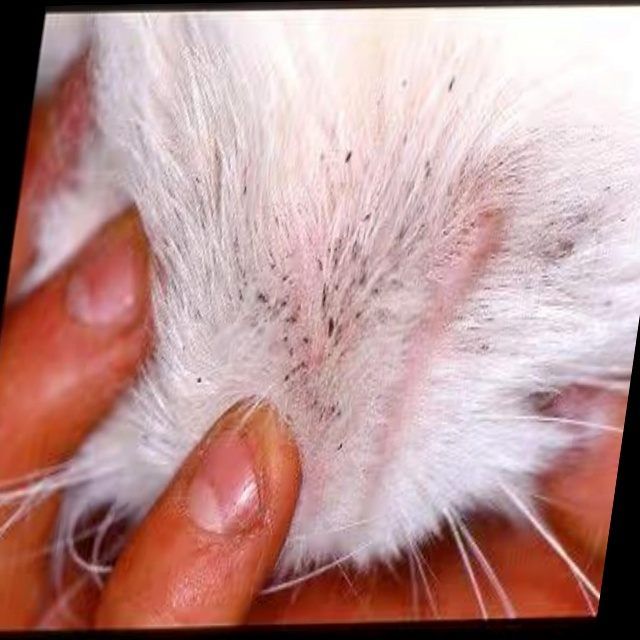acne: (268, 68, 464, 474)
